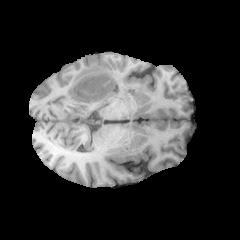glioma: (64, 62, 117, 102)
